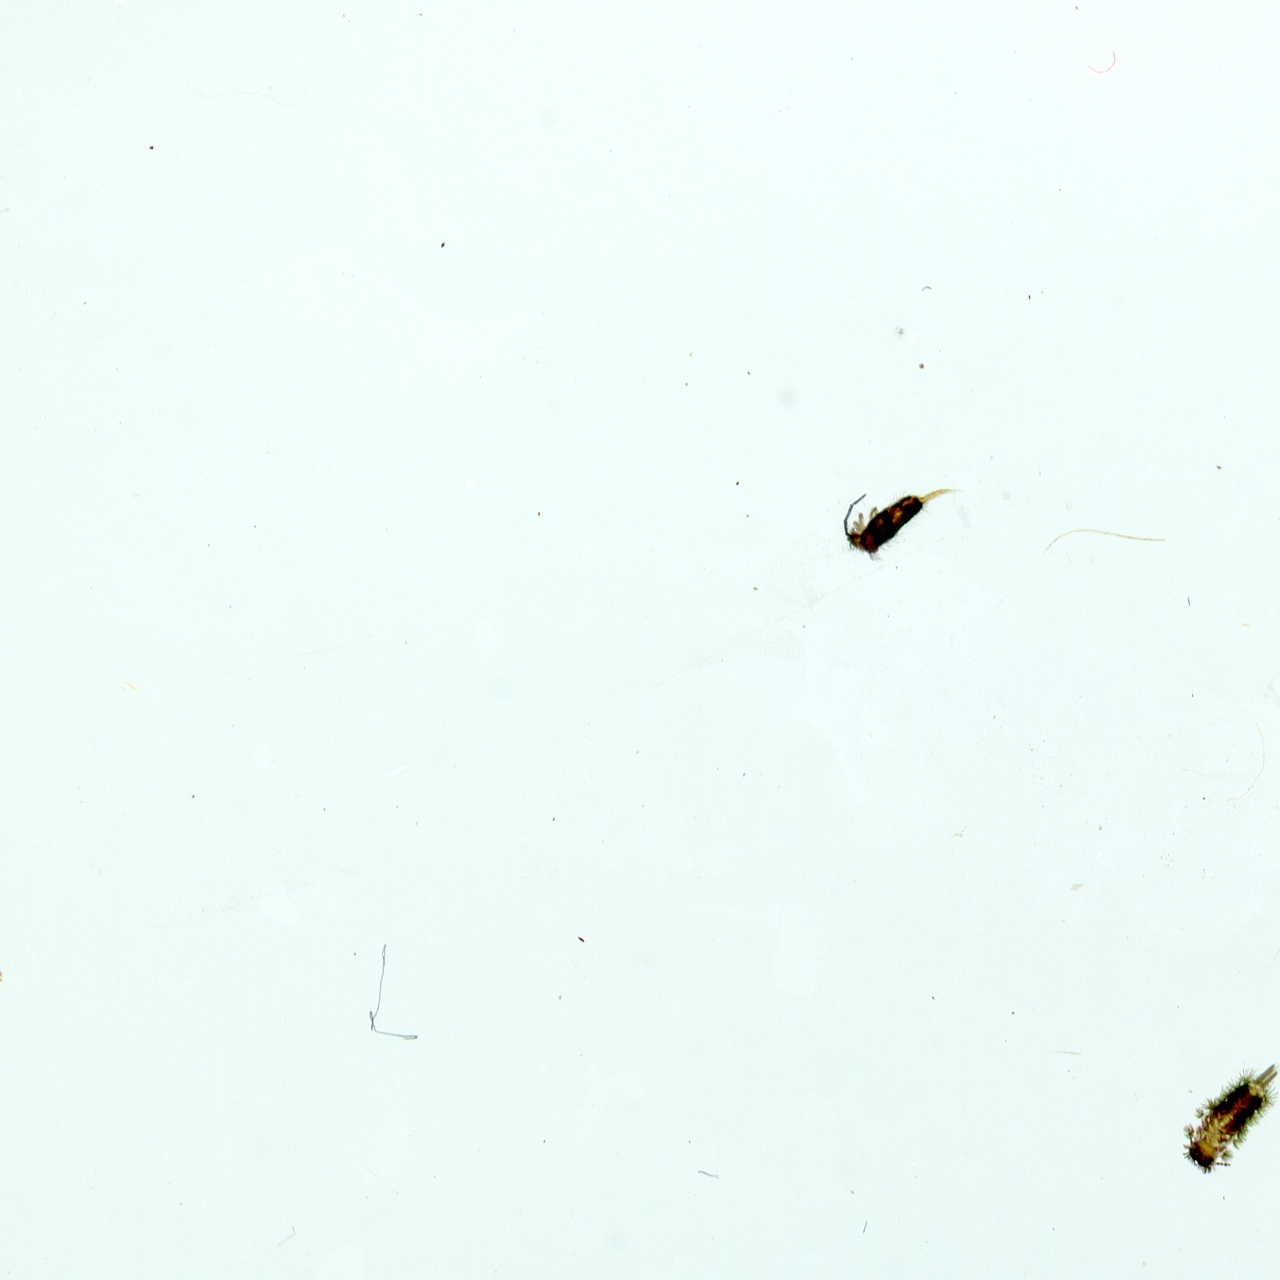arthropod: (1184, 1058, 1278, 1182), (835, 480, 958, 562)
